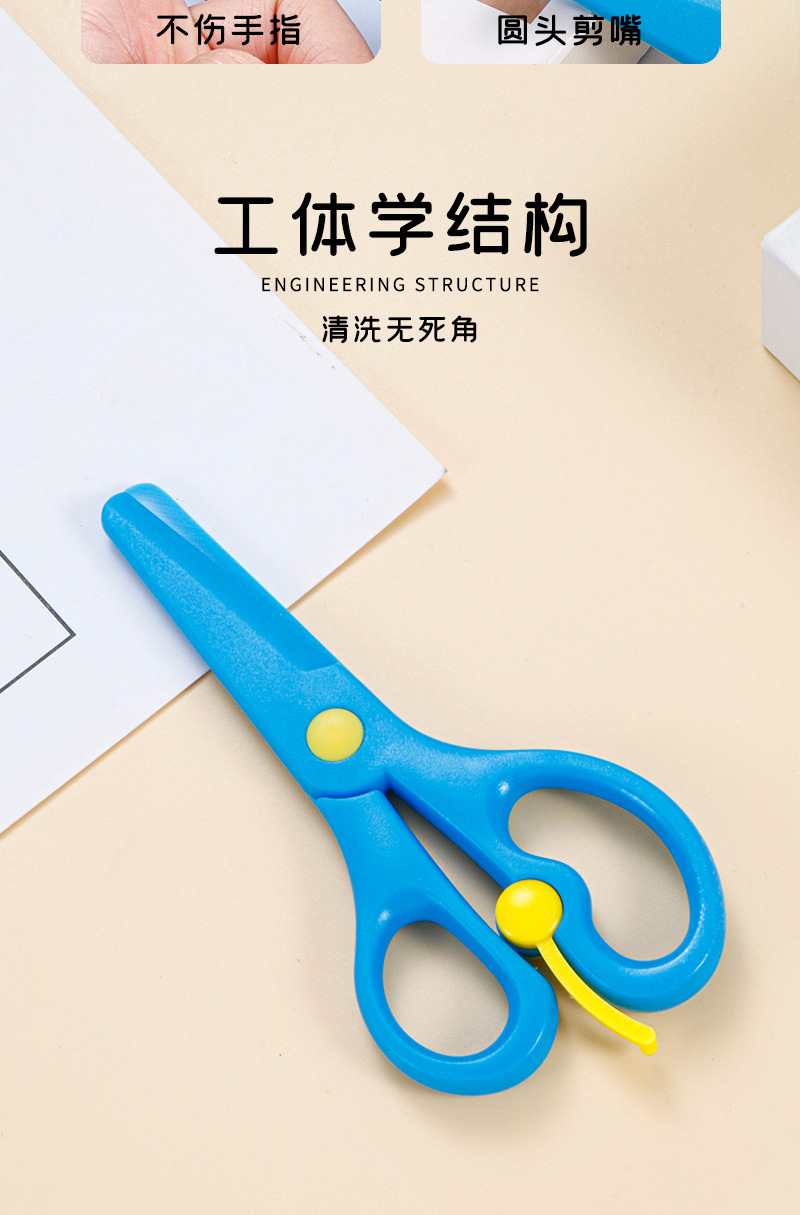scissors: (90, 447, 751, 1111)
